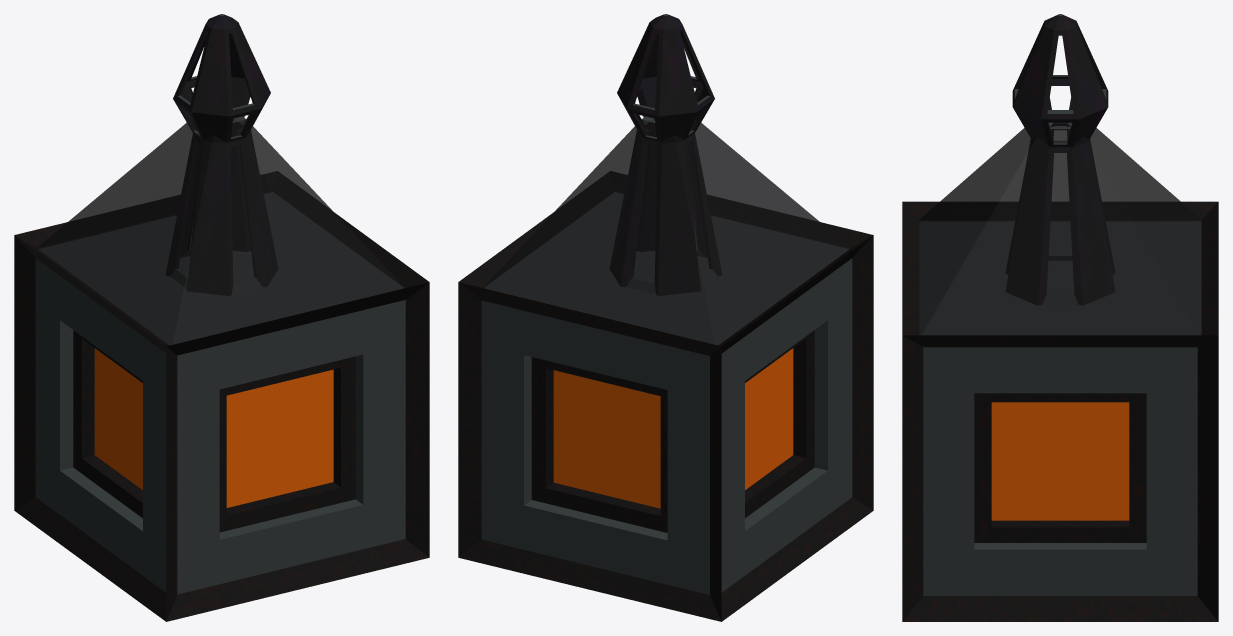
File: Box(Revamped).fbx
The picture shows the model from 3 angles, left to right: view 1: azimuth 30°, elevation 25°; view 2: azimuth 150°, elevation 25°; view 3: azimuth 270°, elevation 25°; orthographic projection. The views are drawn at different scales.
Parts seen in each view (by area): view 1: Cube, Frame, Cube.001, Spire, Light; view 2: Cube, Frame, Cube.001, Spire, Light; view 3: Cube, Cube.001, Frame, Spire, Light.
Part boxes in pixels (x1=…): Cube: x1=35, y1=14, x2=405, y2=594; Frame: x1=14, y1=171, x2=429, y2=621; Cube.001: x1=37, y1=118, x2=404, y2=345; Spire: x1=166, y1=14, x2=278, y2=295; Light: x1=94, y1=348, x2=333, y2=507; Cube: x1=481, y1=14, x2=852, y2=594; Frame: x1=458, y1=171, x2=873, y2=621; Cube.001: x1=483, y1=118, x2=850, y2=345; Spire: x1=609, y1=14, x2=721, y2=295; Light: x1=553, y1=348, x2=793, y2=508; Cube: x1=919, y1=14, x2=1201, y2=595; Cube.001: x1=919, y1=128, x2=1201, y2=335; Frame: x1=902, y1=201, x2=1218, y2=621; Spire: x1=1005, y1=15, x2=1115, y2=305; Light: x1=991, y1=402, x2=1129, y2=520.
Size of the model in its own units: 200 by 377 by 200.
